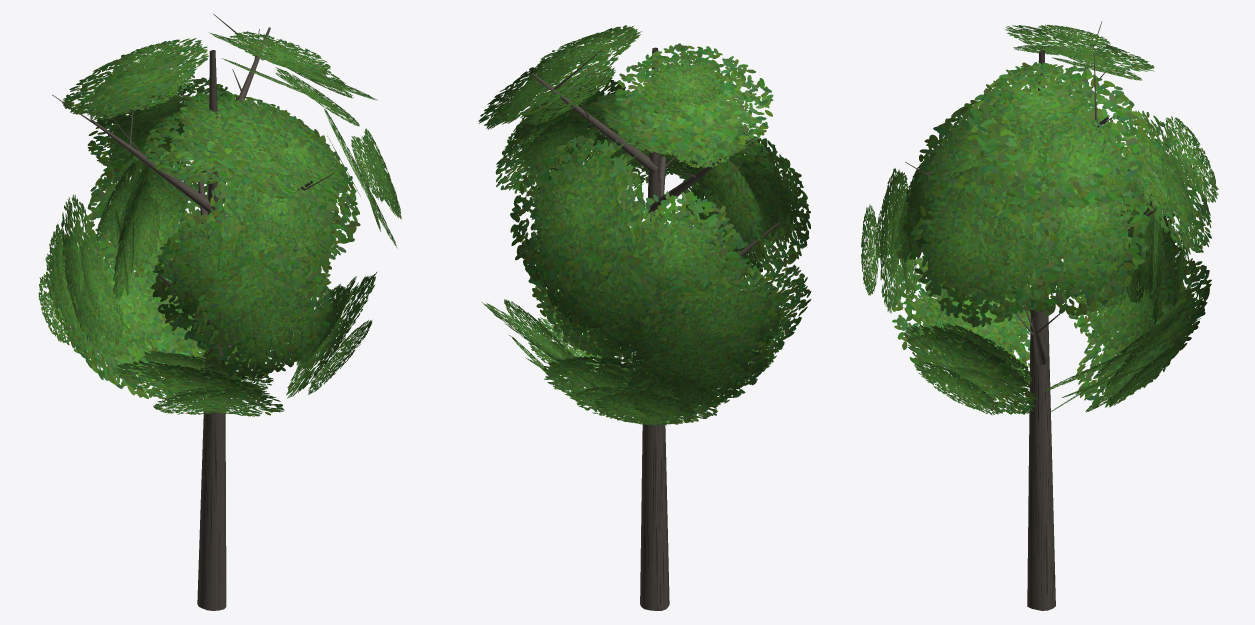
Rendered from Linden_LOD0.fbx.
The picture shows the model from 3 angles, left to right: view 1: azimuth 30°, elevation 25°; view 2: azimuth 150°, elevation 25°; view 3: azimuth 270°, elevation 25°; orthographic projection.
Parts seen in each view (by area): view 1: Linden_LOD0; view 2: Linden_LOD0; view 3: Linden_LOD0.
Part boxes in pixels (left/top/right/bottom): Linden_LOD0: left=38, top=14, right=401, bottom=610; Linden_LOD0: left=478, top=25, right=811, bottom=610; Linden_LOD0: left=861, top=21, right=1218, bottom=610.
Bounding box in the file's own units: 10.67 × 17.37 × 10.54.
1 material, 1 textured.
